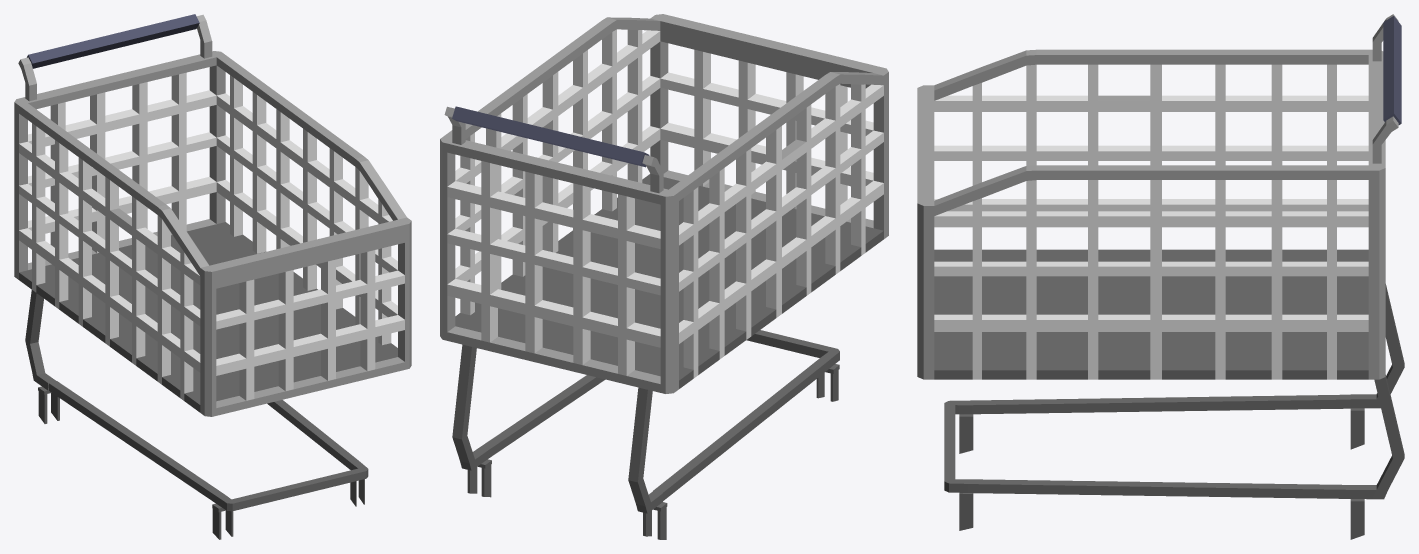
File: Carrito Estructura.fbx
The picture shows the model from 3 angles, left to right: view 1: azimuth 30°, elevation 25°; view 2: azimuth 150°, elevation 25°; view 3: azimuth 270°, elevation 25°; orthographic projection. The views are drawn at different scales.
Parts seen in each view (by area): view 1: Carrito_estructura; view 2: Carrito_estructura; view 3: Carrito_estructura.
Boxes of the visible parts, box(x1,y1,x2,y2) form: Carrito_estructura: box(14, 14, 411, 539); Carrito_estructura: box(440, 14, 888, 539); Carrito_estructura: box(917, 14, 1404, 539).
Size of the model in its own units: 0.7444 by 1.22 by 1.27.
